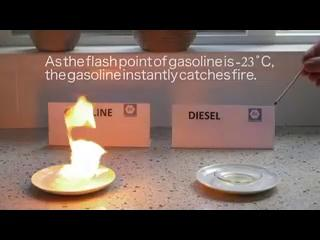Fire: (58, 93, 110, 184)
